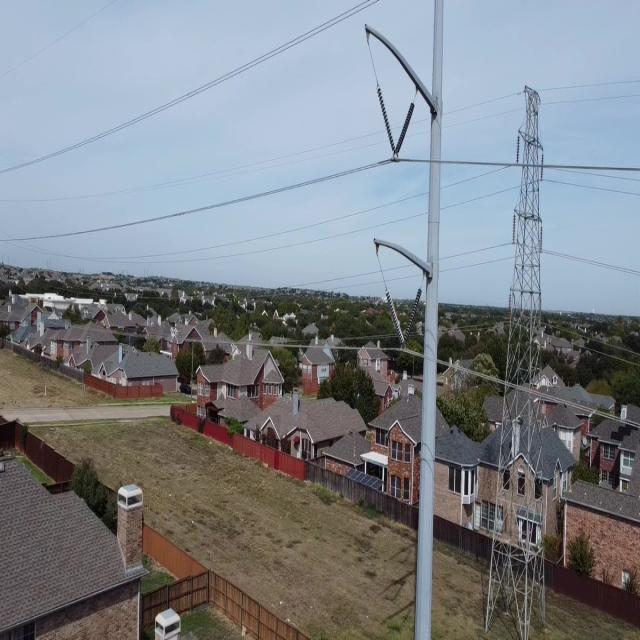杆塔: (480, 79, 550, 640)
正常绝缘子: (387, 88, 422, 173), (372, 74, 402, 167), (395, 276, 424, 366), (379, 278, 411, 356), (511, 210, 518, 251), (538, 217, 544, 260), (540, 152, 547, 188), (514, 132, 520, 168)
